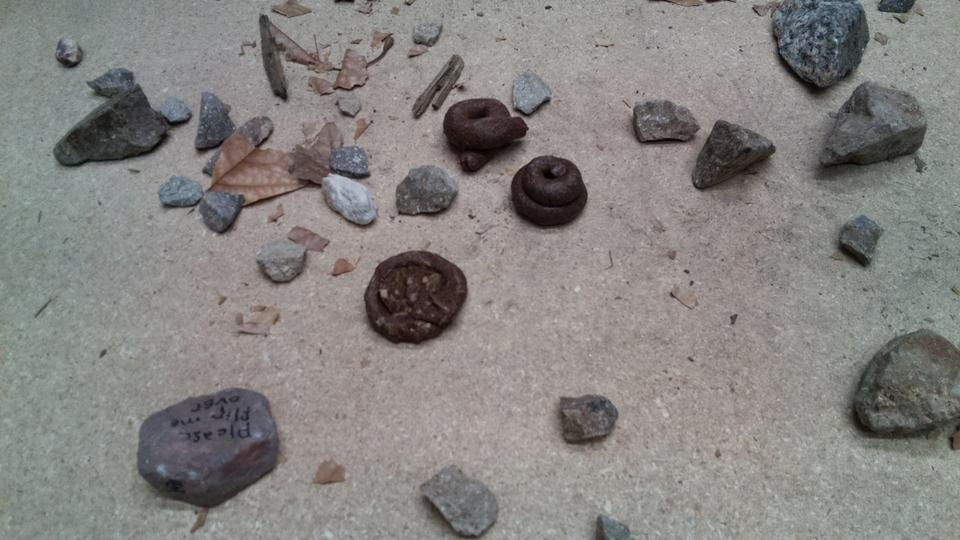poop: (363, 247, 469, 347), (442, 94, 531, 173), (506, 151, 590, 228)
